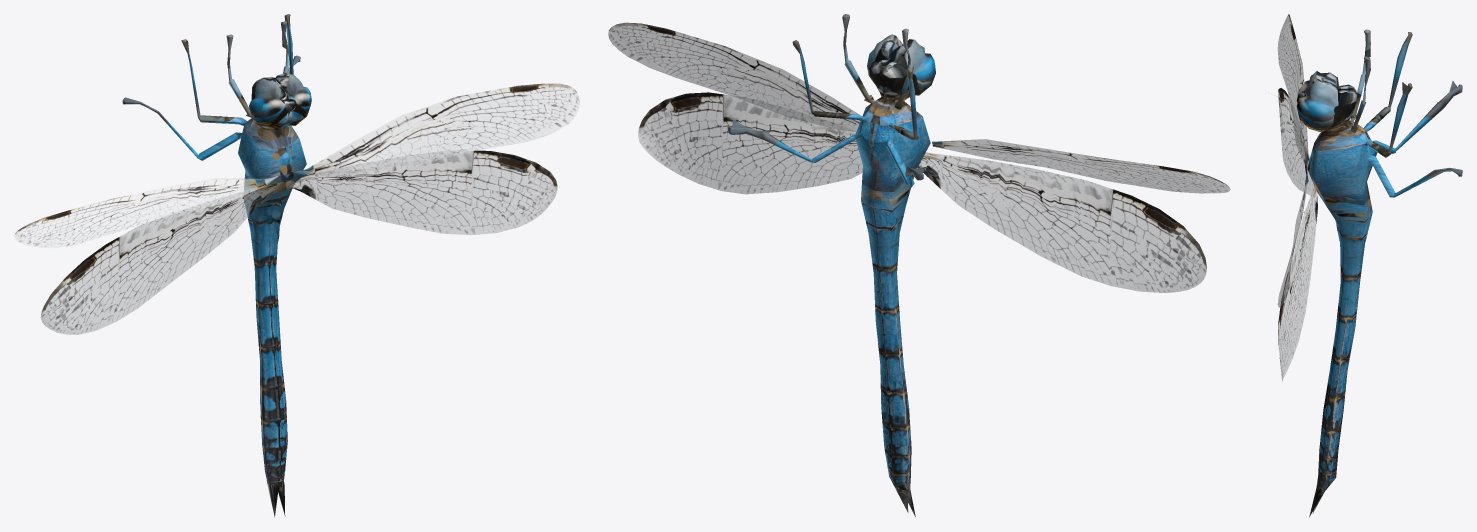
The model's file is blue-dragonfly-retopo.glb.
3 views of the same model, side by side, from view 1: azimuth 30°, elevation 25°; view 2: azimuth 150°, elevation 25°; view 3: azimuth 270°, elevation 25° (orthographic). The views are drawn at different scales.
Parts seen in each view (by area): view 1: body, hindRight, hindLeft, foreRight, foreLeft; view 2: hindLeft, body, hindRight, foreRight, foreLeft; view 3: body, hindRight, foreLeft, hindLeft, foreRight.
Part boxes in pixels (bbox=[...]): body: bbox=[122, 14, 311, 517]; hindRight: bbox=[289, 150, 557, 235]; hindLeft: bbox=[40, 183, 277, 334]; foreRight: bbox=[302, 83, 579, 177]; foreLeft: bbox=[14, 178, 266, 248]; hindLeft: bbox=[917, 152, 1206, 292]; body: bbox=[728, 14, 935, 517]; hindRight: bbox=[638, 92, 862, 194]; foreRight: bbox=[608, 22, 860, 131]; foreLeft: bbox=[932, 139, 1230, 193]; body: bbox=[1265, 29, 1462, 517]; hindRight: bbox=[1278, 183, 1317, 381]; foreLeft: bbox=[1277, 14, 1308, 164]; hindLeft: bbox=[1278, 88, 1314, 195]; foreRight: bbox=[1277, 179, 1308, 307].
Size of the model in its own units: 0.9995 by 0.7905 by 0.3071.
Materials: 2 (2 with a texture image).
